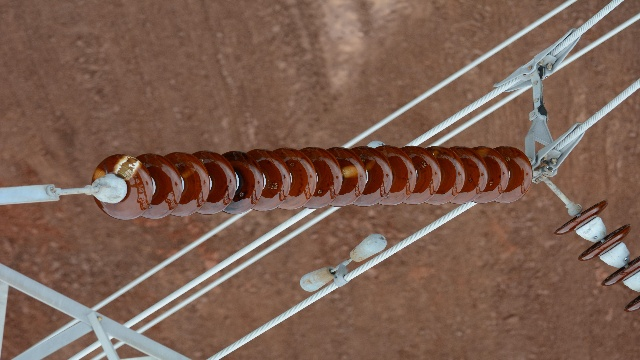insulator_unspecified: (91, 144, 532, 220), (556, 200, 639, 312)
pollution_flashover_local: (111, 153, 141, 181), (342, 164, 361, 178), (474, 144, 491, 157), (365, 158, 376, 172)
